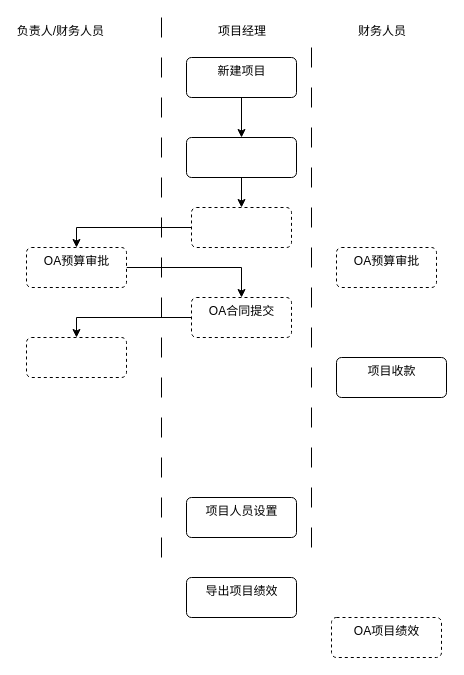
Some shapes in this 464 by 675 pixel diagram are drawn without their labels. Here are the shapes that lost their labels. From the top down, the centre of each, then its label:
At pixel 241 157: "设置预算".
At pixel 241 227: "OA预算申报".
At pixel 76 357: "OA合同审批".
